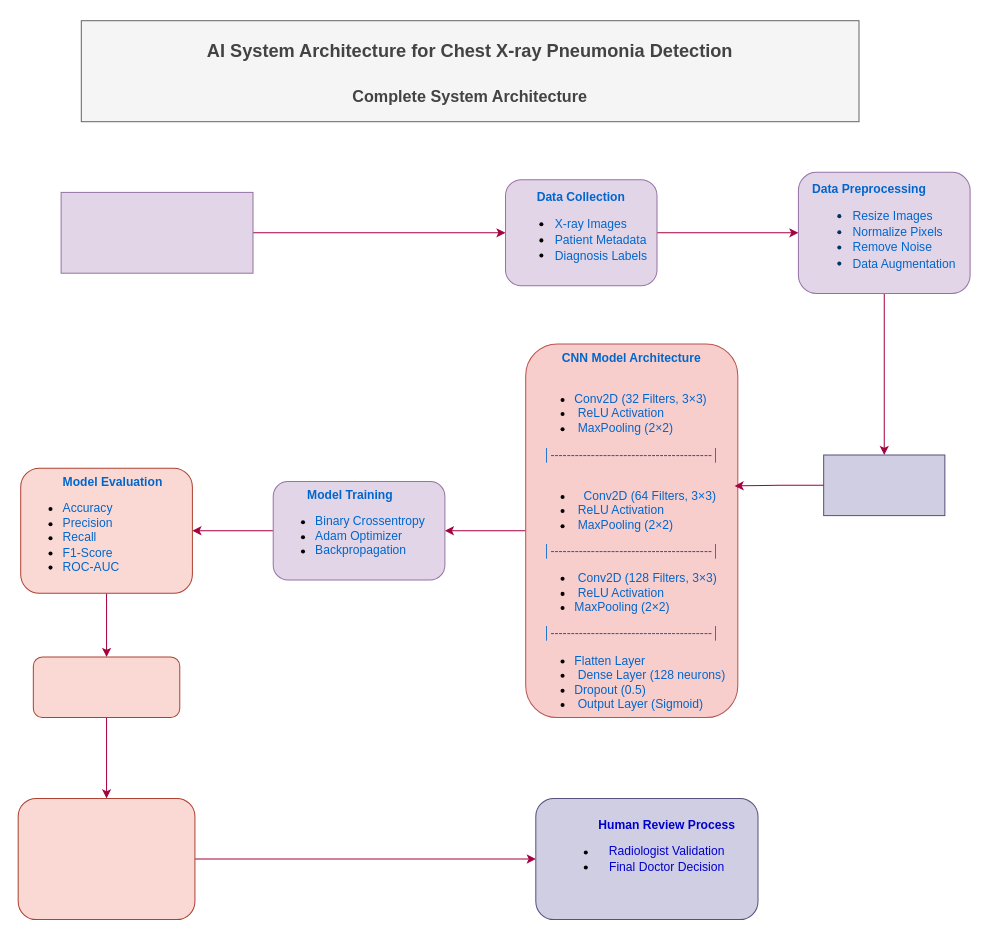
Image size: 988x937. Some labels were removed from this diagram. Here are the shapes that lost their labels. From the top down, the box of each, then its label:
(60, 191, 253, 273): Chest X-ray Images (Hospital / Dataset)
(823, 454, 945, 516): Dataset Split Train/ Validation/ Test
(32, 656, 180, 718): Deployment Layer Web App/ Hospital App
(17, 797, 195, 920): Prediction System Upload Chest X-ray AI Prediction Confidence Score
